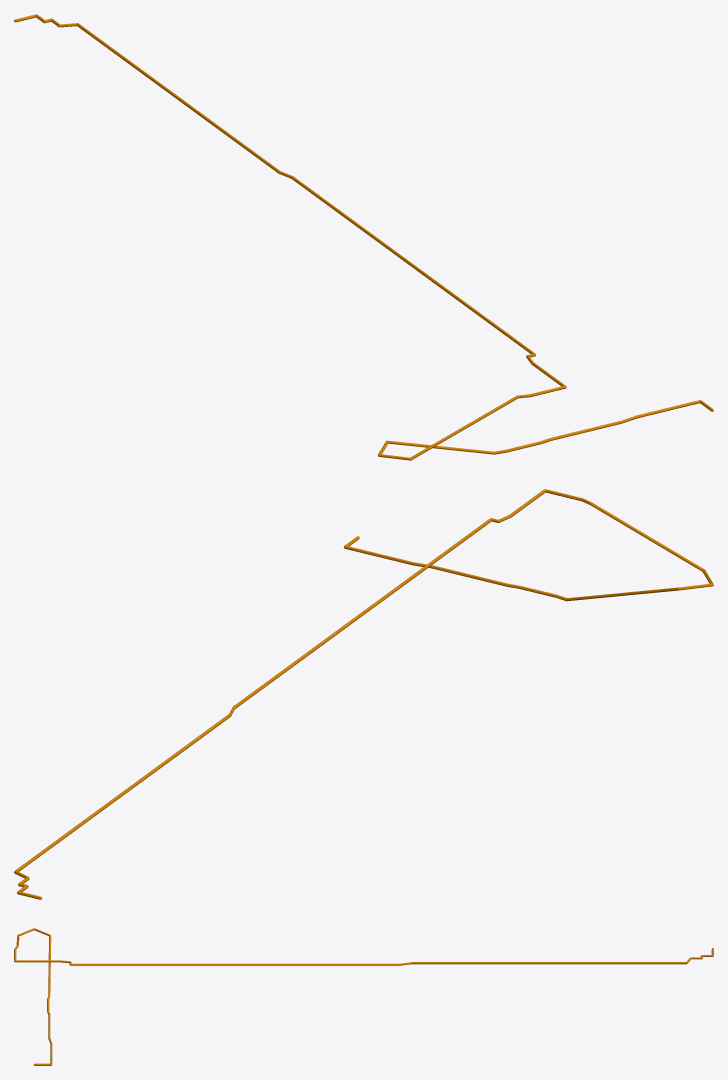
The picture shows the model from 3 angles, top to bottom: view 1: azimuth 30°, elevation 25°; view 2: azimuth 150°, elevation 25°; view 3: azimuth 270°, elevation 25°; orthographic projection. The views are drawn at different scales.
Bounding box in the file's own units: 2402 × 520 × 6362.
